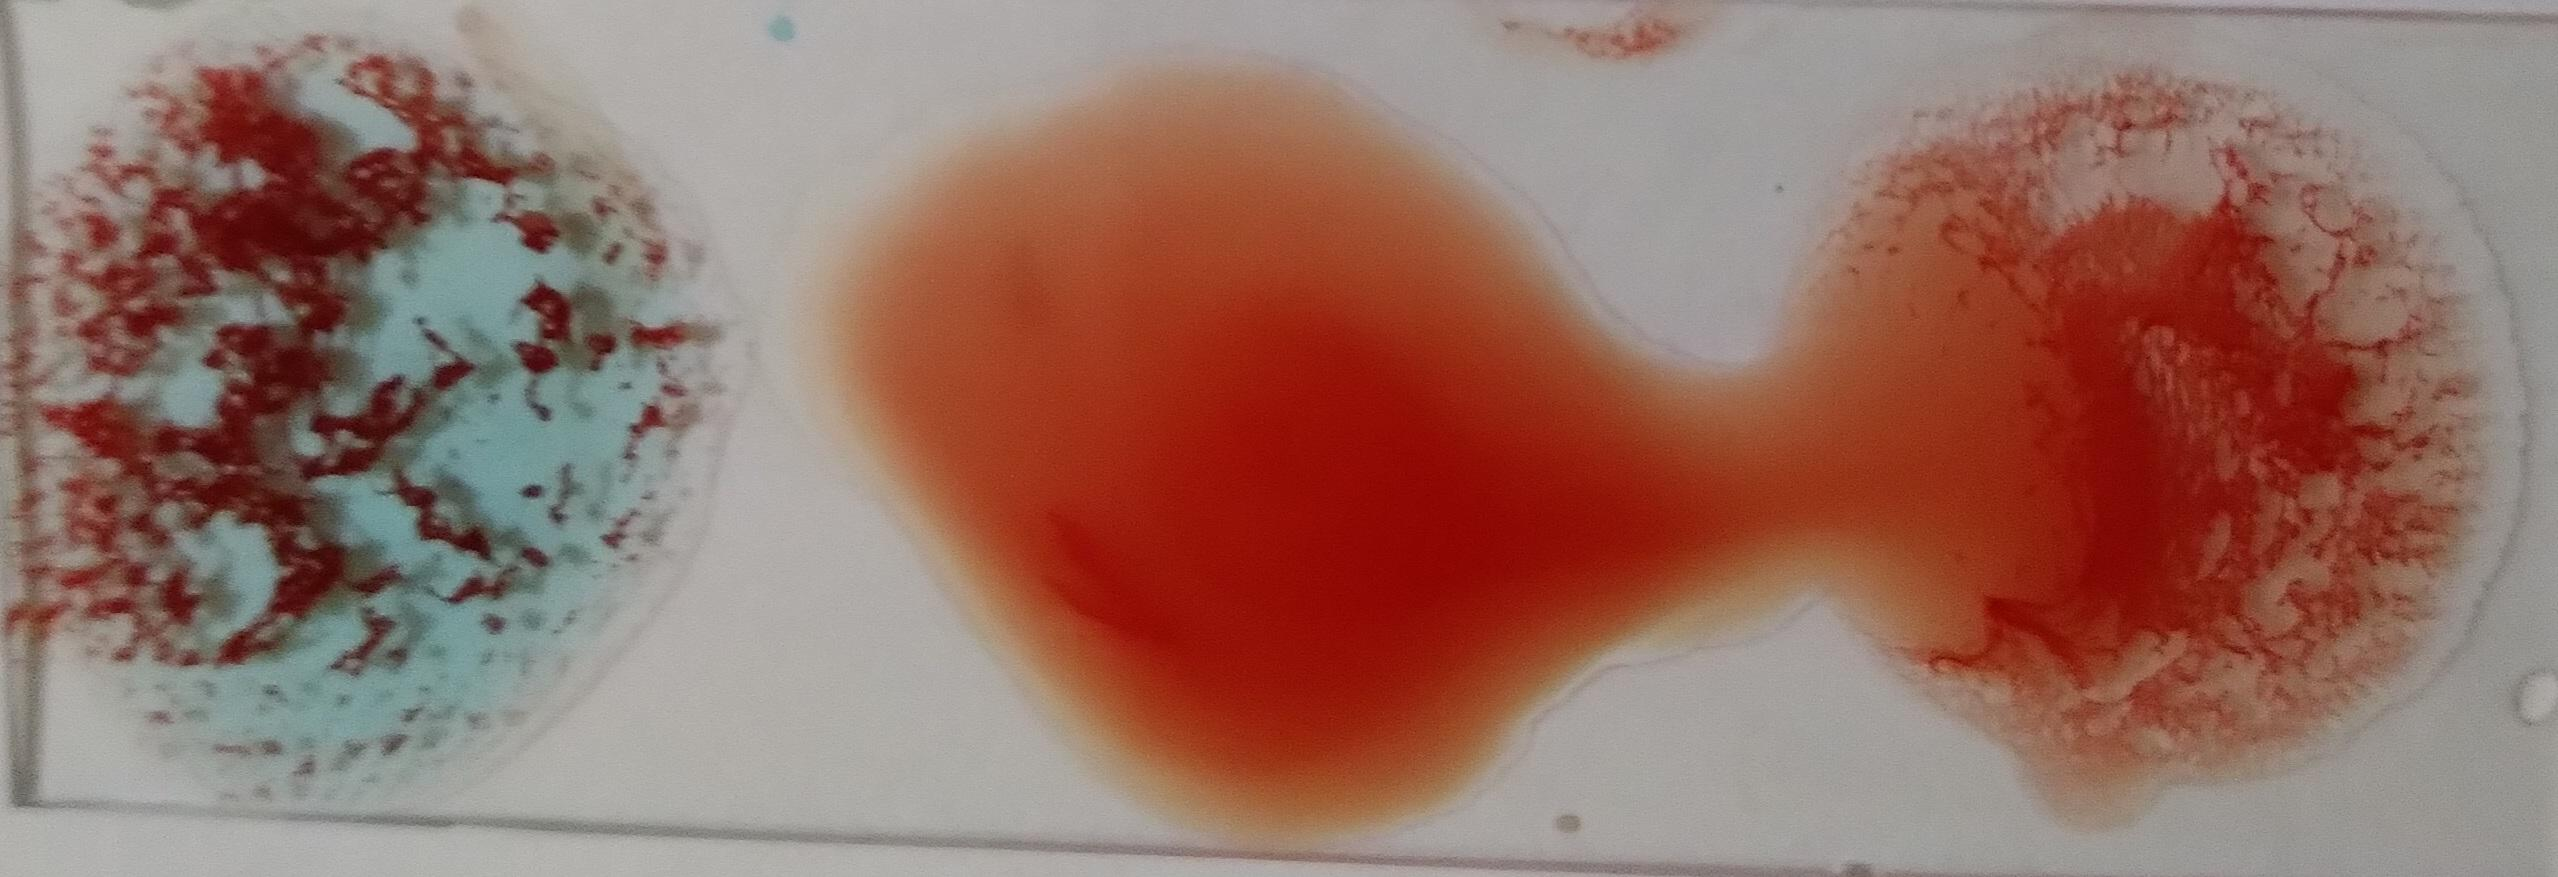A: (36, 54, 623, 760)
D: (2070, 96, 2476, 776)
